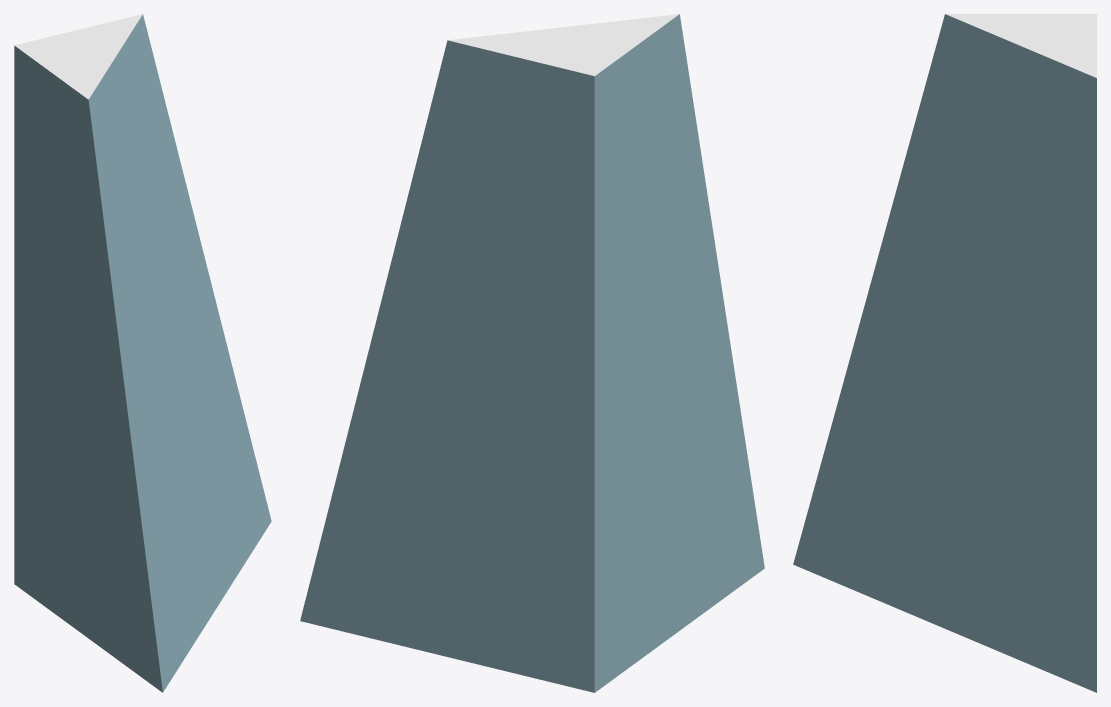
Rendered from Terrain_Tile_Ice_Snow_Cliff_Face_Angled_Corner_01.fbx.
The picture shows the model from 3 angles, left to right: view 1: azimuth 30°, elevation 25°; view 2: azimuth 150°, elevation 25°; view 3: azimuth 270°, elevation 25°; orthographic projection. The views are drawn at different scales.
Parts seen in each view (by area): view 1: Terrain_Tile_Ice_Snow_Cliff_Face_Angled_Corner_01; view 2: Terrain_Tile_Ice_Snow_Cliff_Face_Angled_Corner_01; view 3: Terrain_Tile_Ice_Snow_Cliff_Face_Angled_Corner_01.
Boxes of the visible parts, x1=… form: Terrain_Tile_Ice_Snow_Cliff_Face_Angled_Corner_01: x1=14, y1=14, x2=271, y2=692; Terrain_Tile_Ice_Snow_Cliff_Face_Angled_Corner_01: x1=300, y1=14, x2=764, y2=692; Terrain_Tile_Ice_Snow_Cliff_Face_Angled_Corner_01: x1=793, y1=14, x2=1096, y2=692.
Size of the model in its own units: 62.99 by 126 by 62.99.
